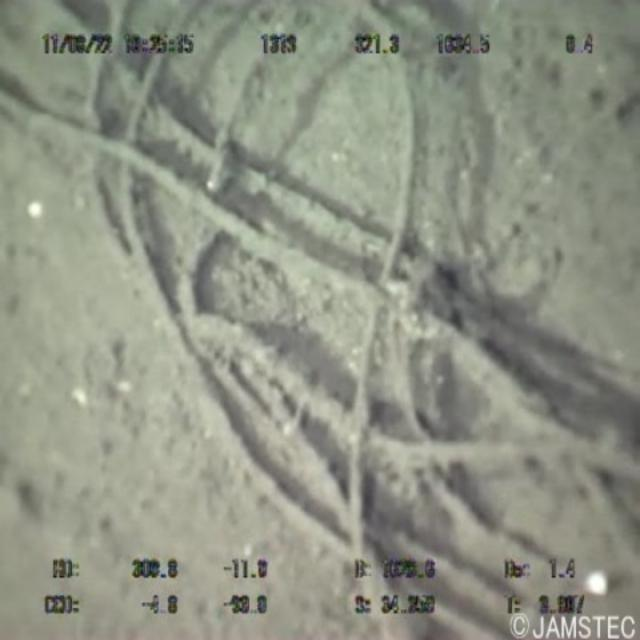Rope: (45, 3, 640, 568)
